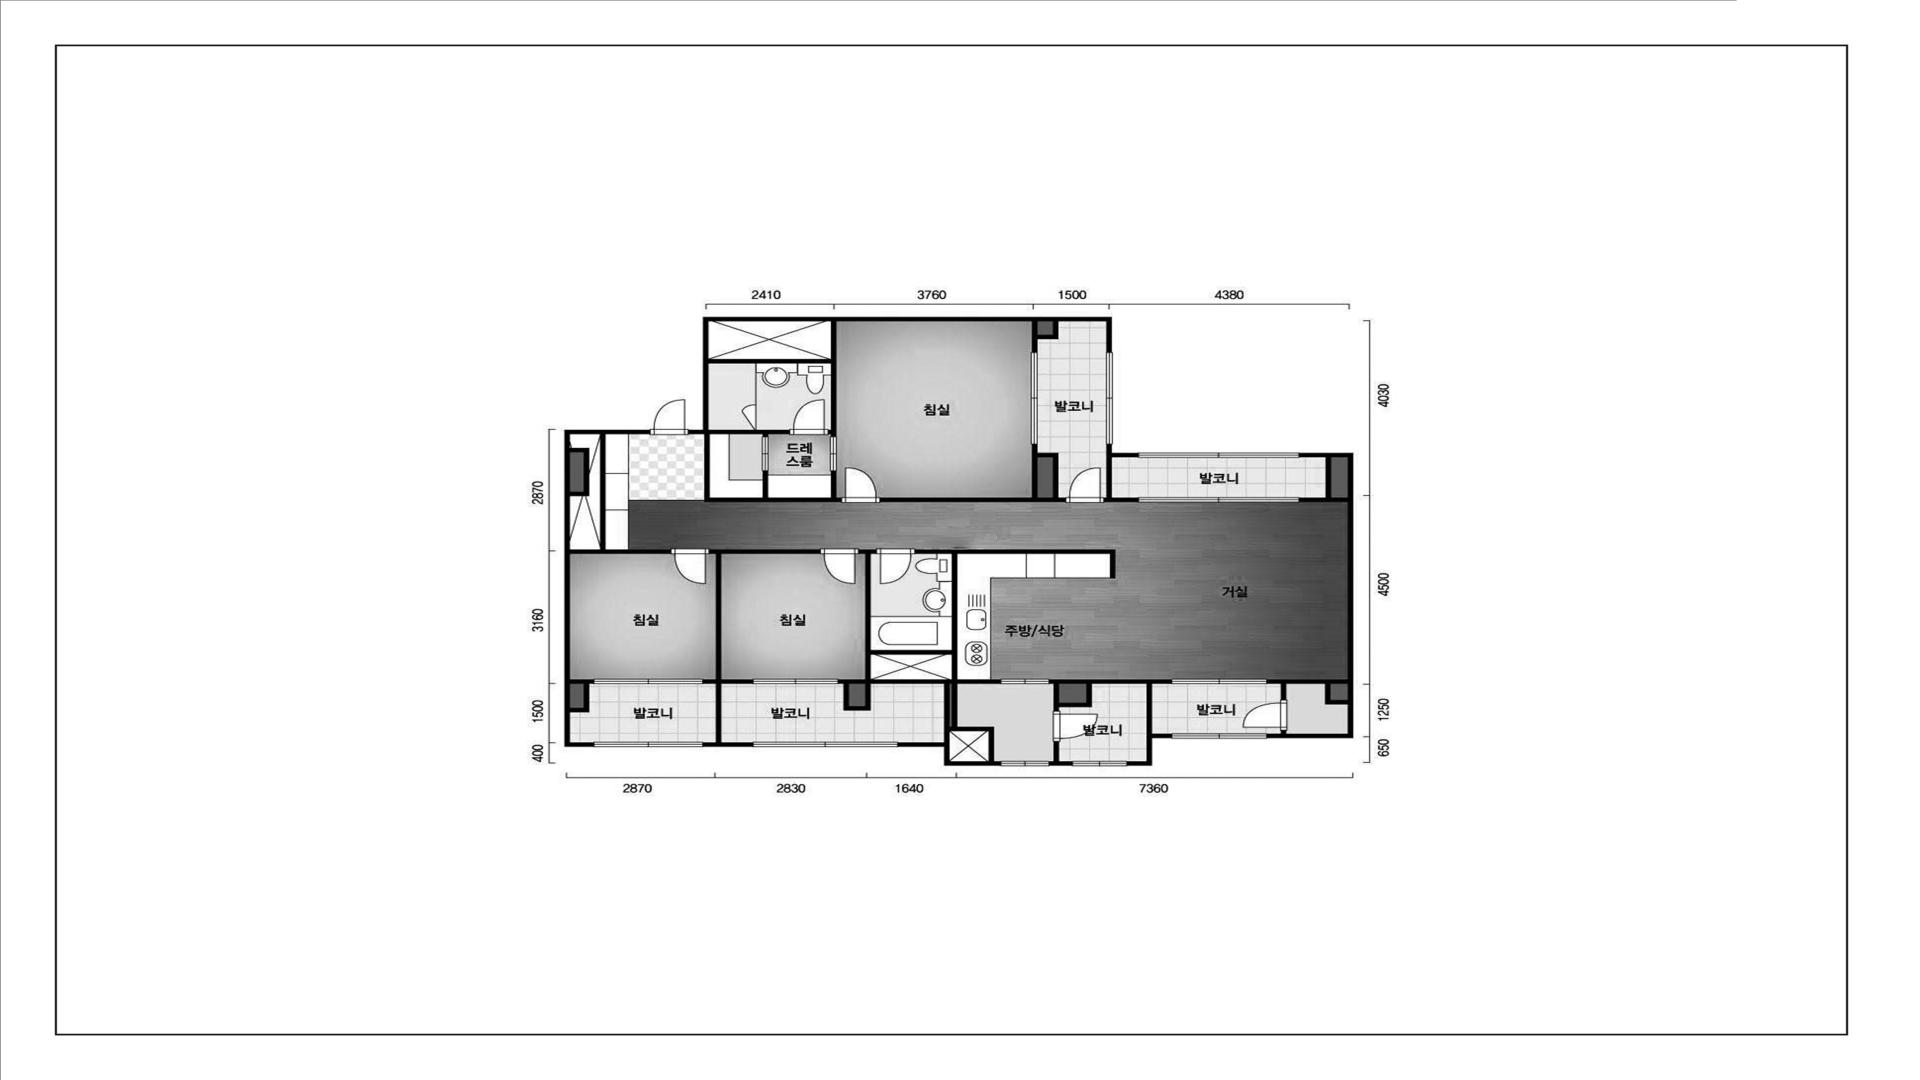background: (0, 0, 1920, 1080)
door: (876, 549, 915, 585), (820, 549, 858, 585), (1065, 467, 1104, 504), (649, 400, 688, 435), (1052, 711, 1098, 741), (671, 549, 708, 585), (841, 467, 880, 502), (1244, 700, 1287, 731), (741, 364, 757, 430), (829, 436, 837, 471), (761, 436, 769, 471), (1001, 679, 1048, 684)
wall: (688, 316, 1112, 434), (837, 550, 1116, 727), (564, 430, 650, 746), (1267, 452, 1353, 738), (703, 550, 820, 742), (708, 322, 836, 436), (570, 434, 671, 554), (880, 444, 1065, 502), (704, 434, 841, 502), (1048, 679, 1172, 735), (898, 742, 1001, 765), (1299, 458, 1348, 502), (1266, 679, 1348, 704), (944, 727, 994, 761), (1104, 458, 1138, 502), (1127, 735, 1172, 766), (570, 448, 589, 496), (1031, 322, 1059, 352), (570, 679, 595, 712), (1054, 683, 1087, 703), (1038, 458, 1052, 497), (709, 430, 790, 436), (1106, 444, 1138, 458), (703, 742, 753, 746), (1048, 761, 1072, 766), (1054, 741, 1059, 761), (1282, 731, 1286, 733)
window: (753, 741, 897, 748), (1138, 452, 1299, 458), (1138, 497, 1299, 502), (1105, 352, 1113, 444), (1030, 352, 1038, 444), (593, 741, 703, 748), (595, 678, 703, 684), (1172, 679, 1267, 684), (1171, 733, 1266, 738), (753, 679, 837, 684), (1072, 761, 1127, 766), (1001, 761, 1048, 766)
